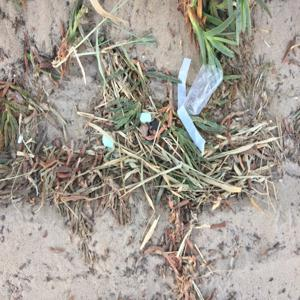plastic: (173, 49, 220, 159), (136, 106, 157, 132), (100, 129, 120, 156)
